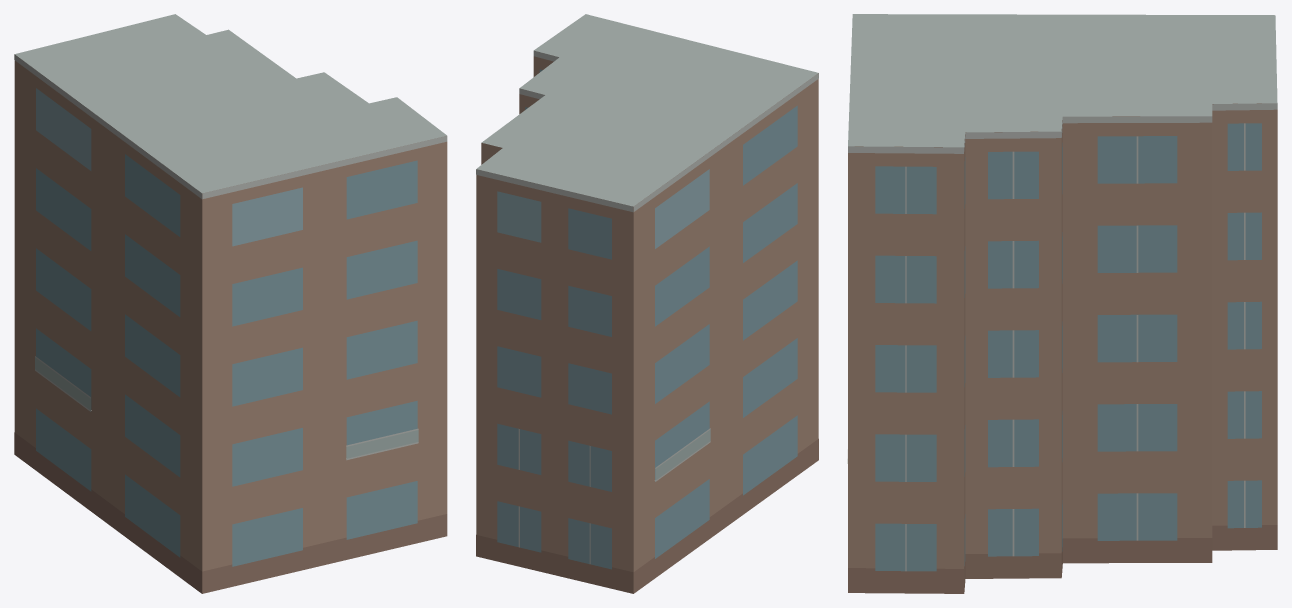
File: survey-upis-32576943.glb
3 renders of one model, left to right at view 1: azimuth 30°, elevation 25°; view 2: azimuth 150°, elevation 25°; view 3: azimuth 270°, elevation 25°, orthographic. The views are drawn at different scales.
Parts seen in each view (by area): view 1: survey-upis-32576943.tmp; view 2: survey-upis-32576943.tmp; view 3: survey-upis-32576943.tmp.
Part boxes in pixels (box(x1,y1,x2,y2)): survey-upis-32576943.tmp: box(14, 14, 447, 593); survey-upis-32576943.tmp: box(476, 14, 818, 593); survey-upis-32576943.tmp: box(847, 14, 1277, 593).
Bounding box in the file's own units: 10.57 × 16.5 × 14.41.
